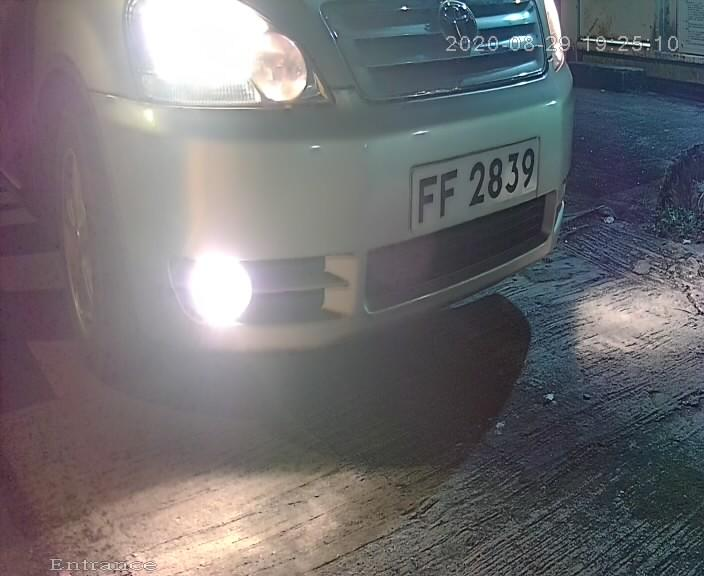License Plate: (403, 129, 547, 242)
